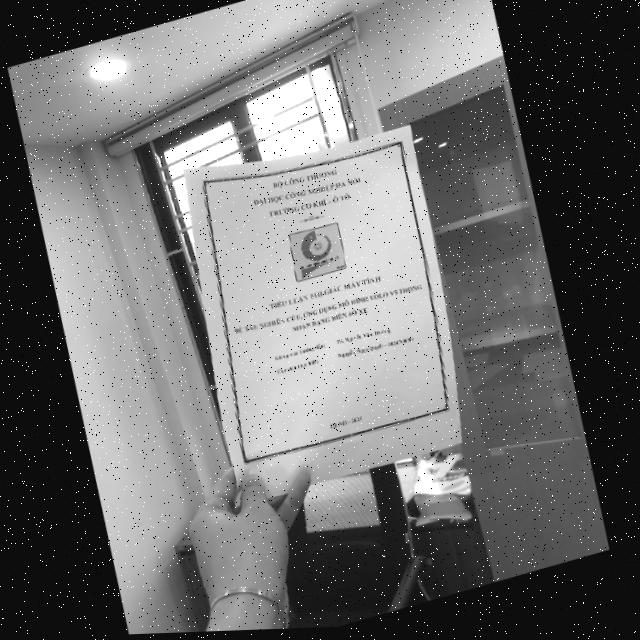document: (181, 125, 463, 507)
